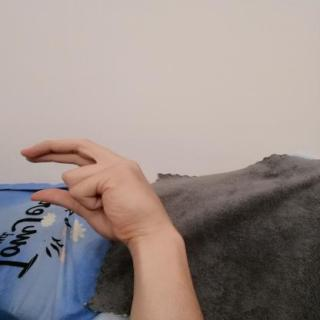DHELL: (11, 133, 175, 249)
